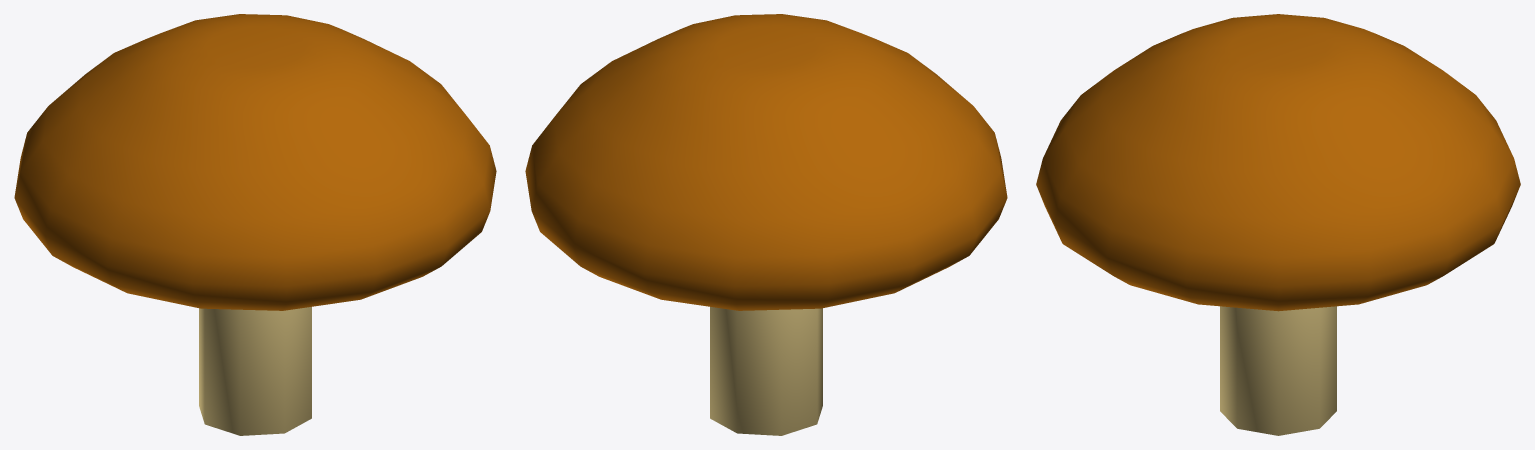
Rendered from BrownMushroomSmooth.fbx.
3 views of the same model, side by side, from view 1: azimuth 30°, elevation 25°; view 2: azimuth 150°, elevation 25°; view 3: azimuth 270°, elevation 25° (orthographic).
Visible parts, largest first — view 1: Cylinder.003, Cylinder.002; view 2: Cylinder.003, Cylinder.002; view 3: Cylinder.003, Cylinder.002.
Boxes of the visible parts, <box> form: Cylinder.003: <box>14,14,496,310</box>; Cylinder.002: <box>199,307,311,435</box>; Cylinder.003: <box>525,14,1007,310</box>; Cylinder.002: <box>710,307,822,435</box>; Cylinder.003: <box>1036,14,1520,311</box>; Cylinder.002: <box>1220,306,1336,435</box>.
Bounding box in the file's own units: 37.87 × 31.37 × 37.87.
